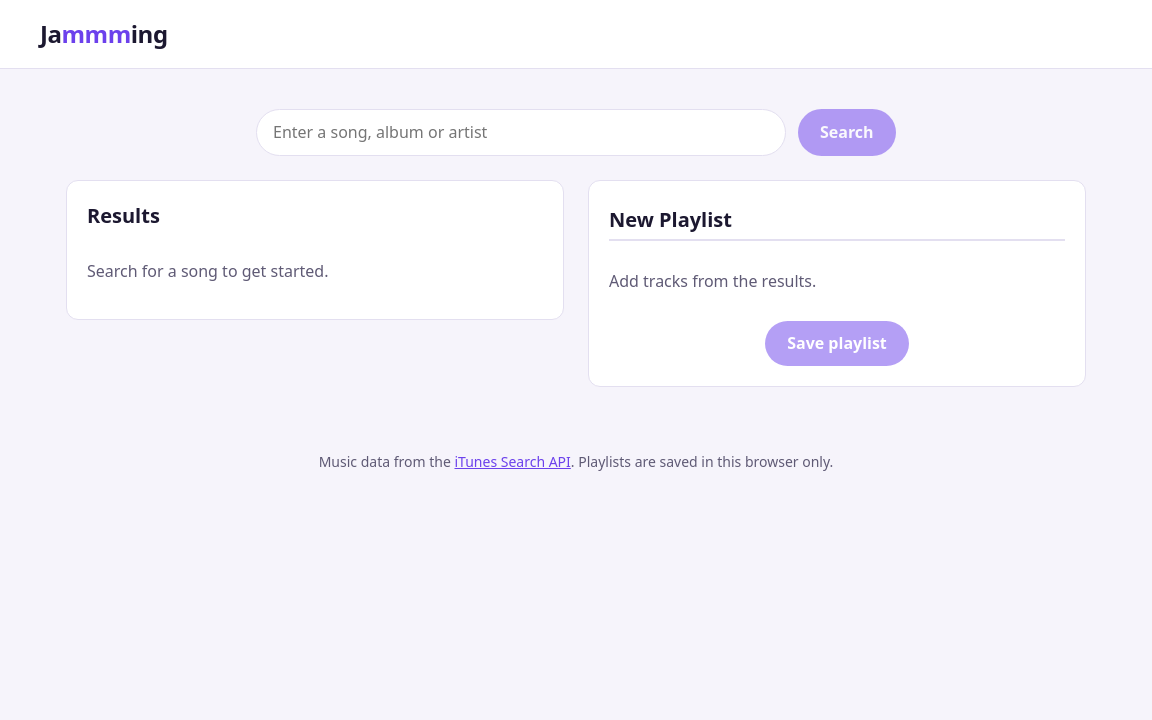
Test: App › deletes a saved playlist after confirmation
In the search field: (521, 132) [256,109,786,156], type "neil"
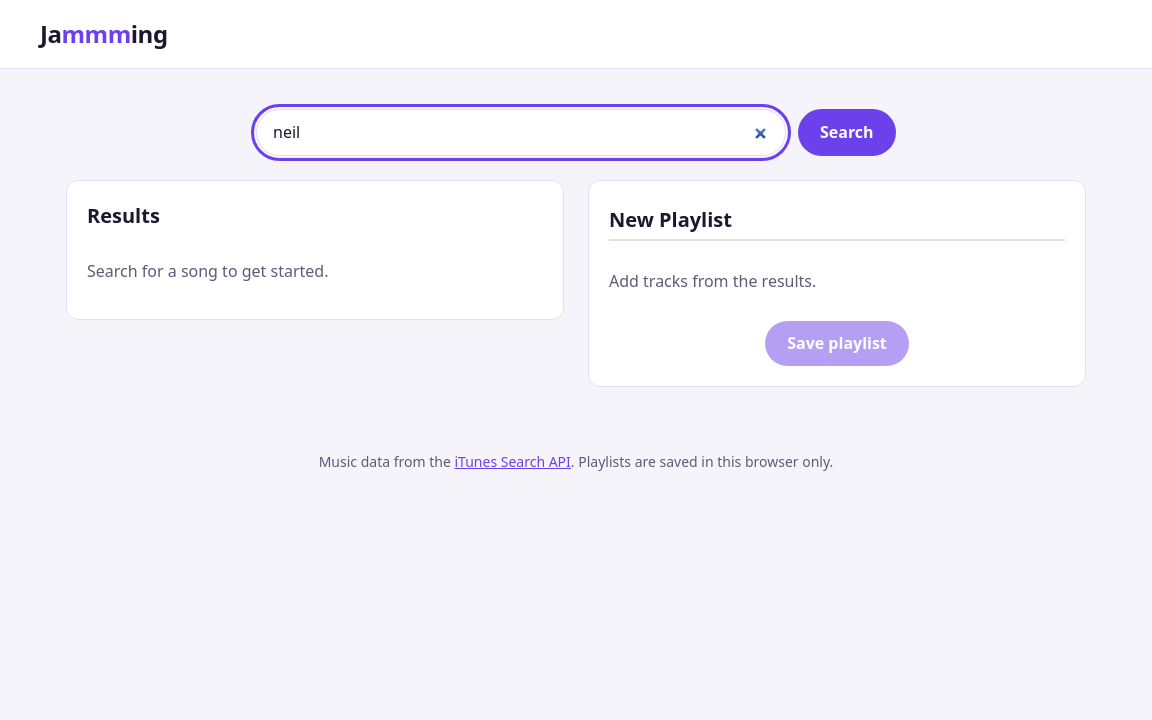
Click the button "Search": (847, 132) [798,109,896,156]
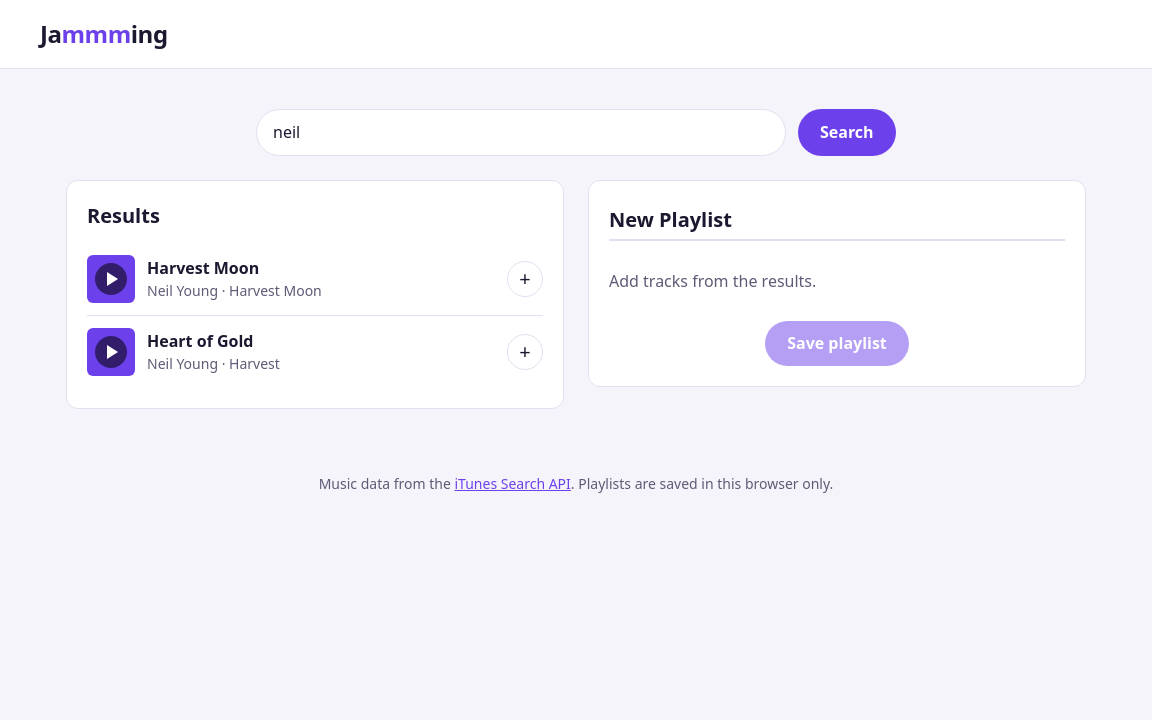
Click the button named "Add Harvest Moon to playlist": (525, 279) [507,261,543,297]
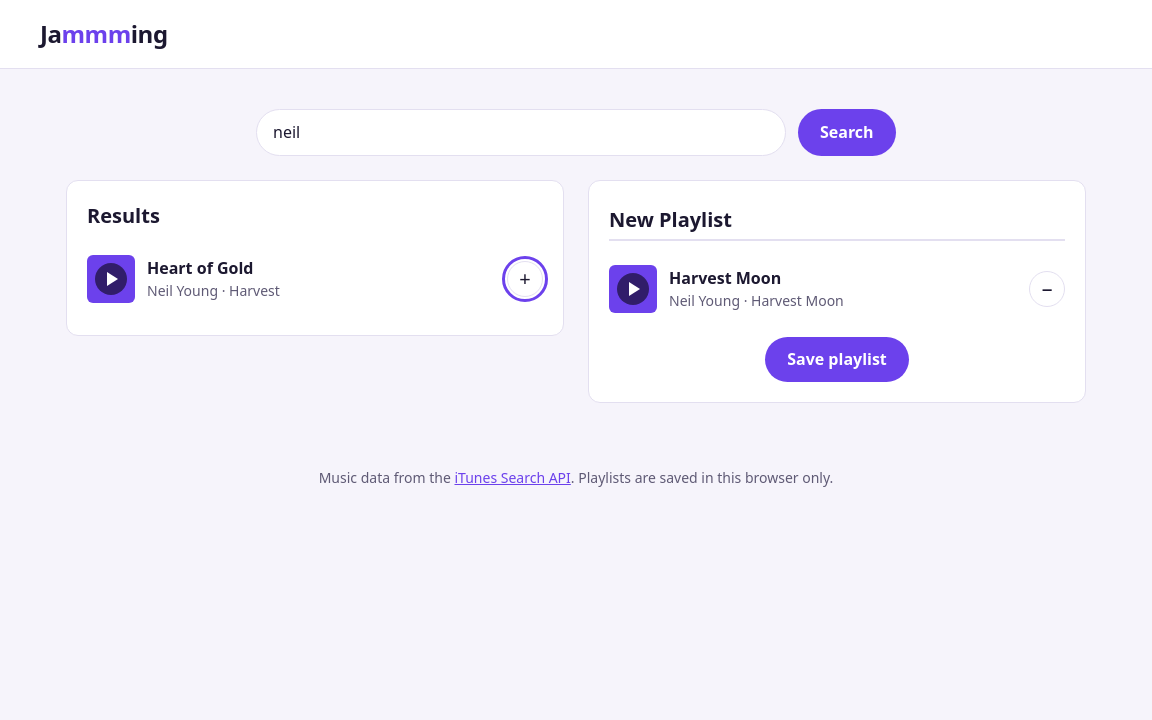
Click the button named "Add Heart of Gold to playlist": (525, 279) [507,261,543,297]
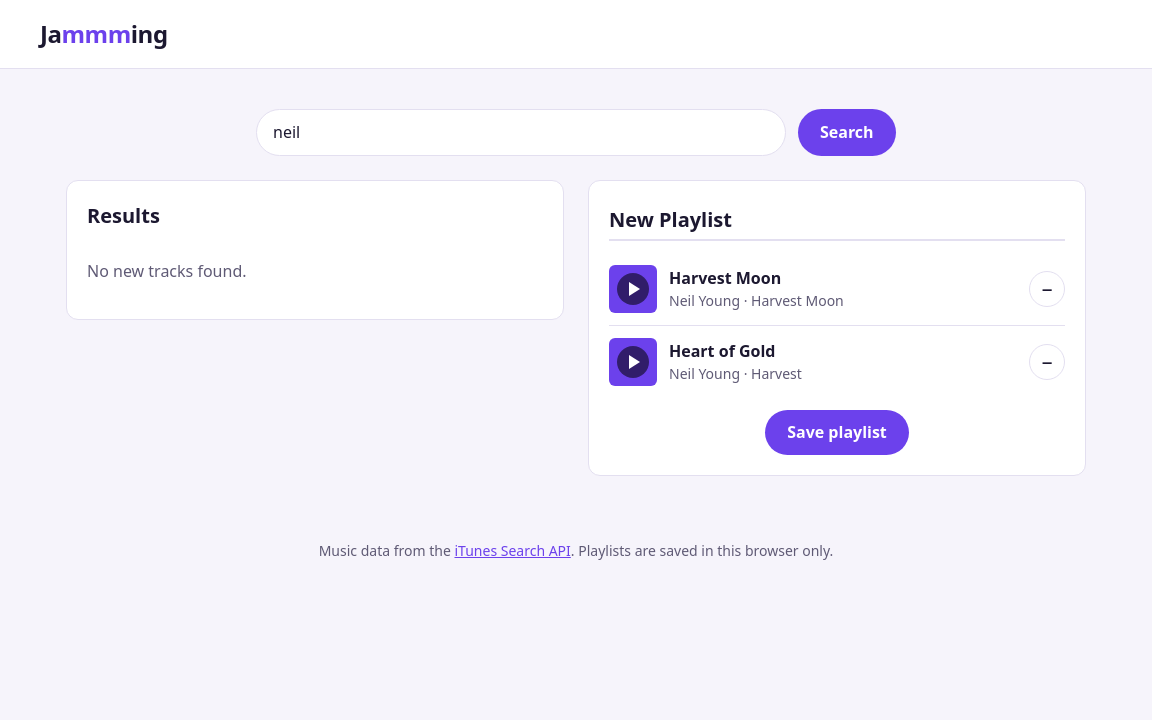
Replace the text in the field named "Playlist name" with "Neil": (837, 221) [609,201,1065,241]
Click the button "Save playlist": (837, 432) [765,410,909,455]
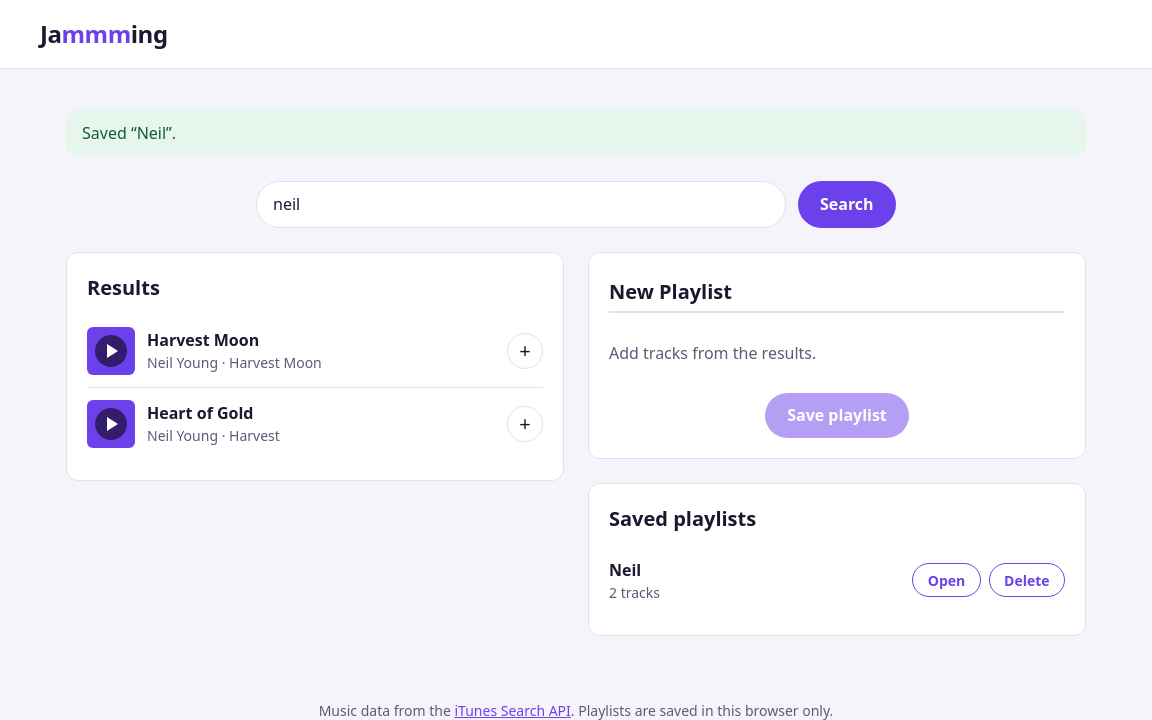
Click the button with aria-label "Delete Neil": (1027, 580) [989,563,1065,597]
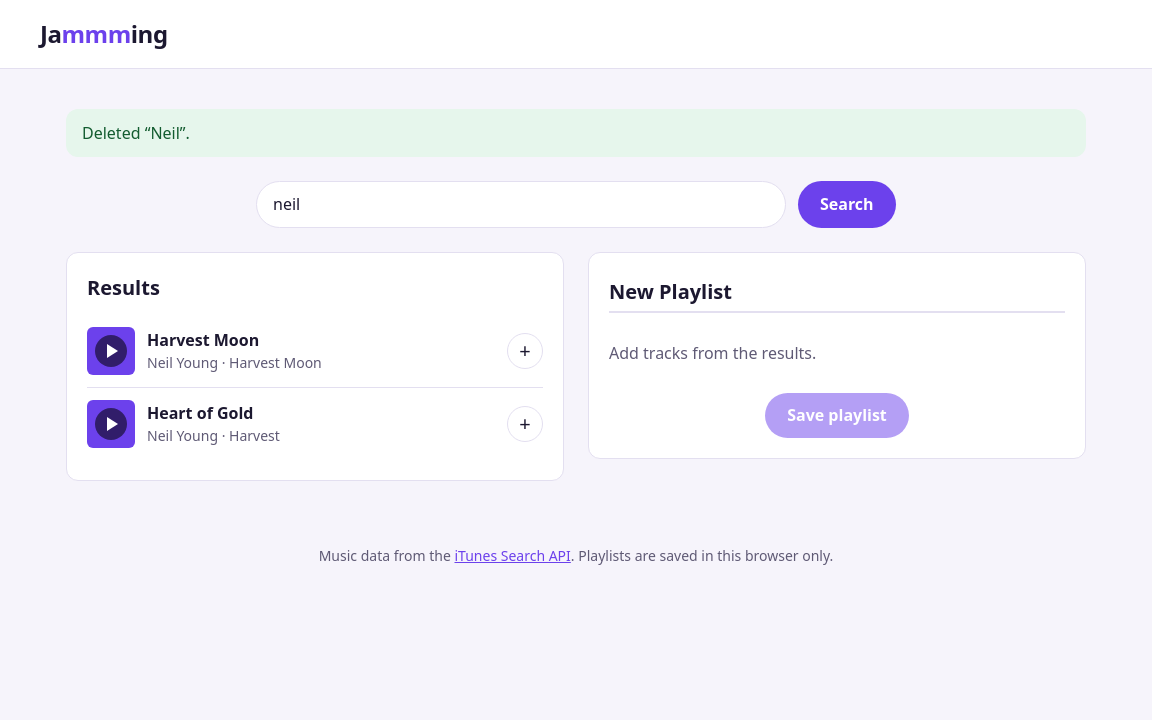
expect the heading "Saved playlists" is gone: met
